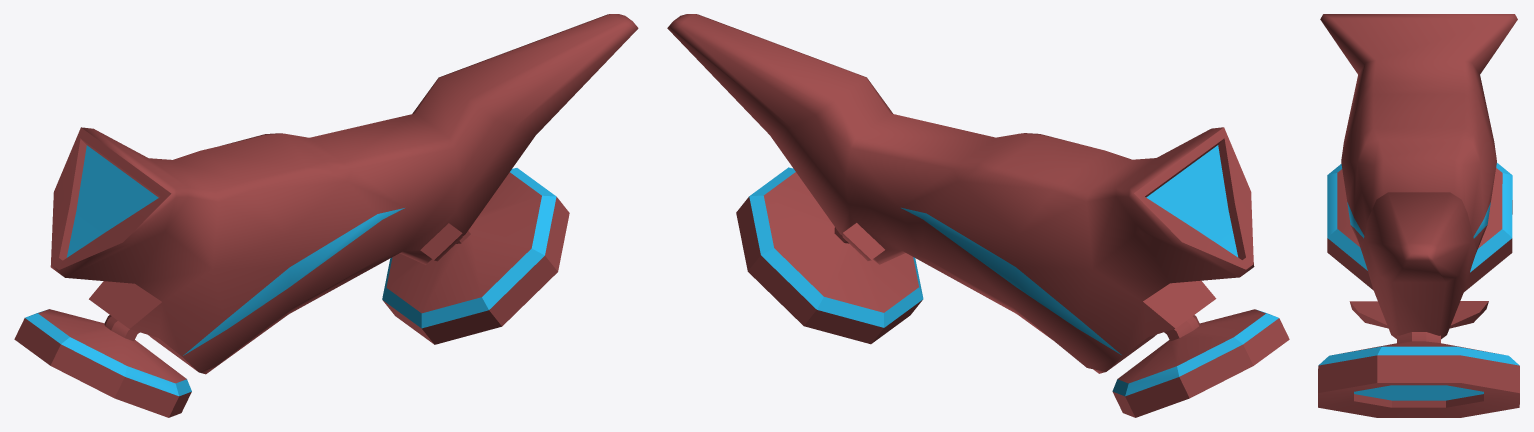
The model's file is SM_Bike_01.fbx.
The picture shows the model from 3 angles, left to right: view 1: azimuth 30°, elevation 25°; view 2: azimuth 150°, elevation 25°; view 3: azimuth 270°, elevation 25°; orthographic projection. The views are drawn at different scales.
Visible parts, largest first — view 1: SM_Bike_01; view 2: SM_Bike_01; view 3: SM_Bike_01.
Part boxes in pixels (left/top/right/bottom): SM_Bike_01: left=14, top=14, right=638, bottom=417; SM_Bike_01: left=667, top=14, right=1289, bottom=417; SM_Bike_01: left=1318, top=14, right=1519, bottom=417.
Bounding box in the file's own units: 844 × 366 × 232.
